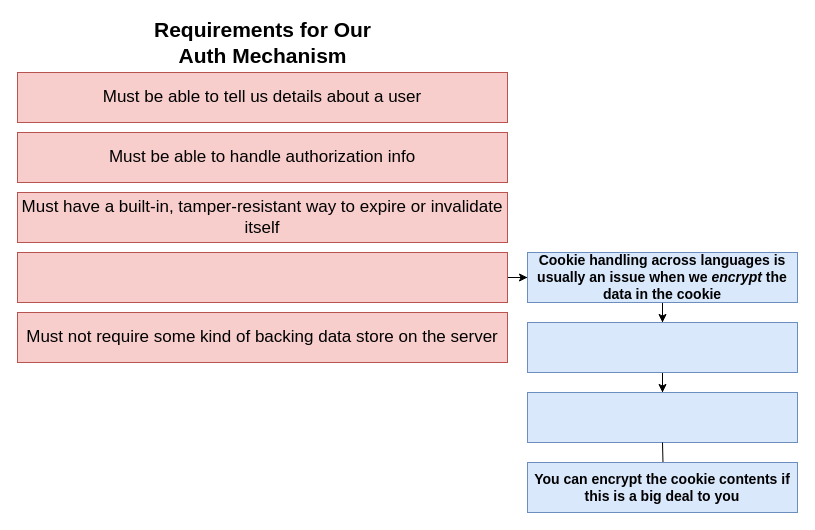
Some shapes in this 815 by 530 pixel diagram are drawn without their labels. The centre of each missing label's shape, as x and y in pixels:
"Must be easily understood between different languages" goes at (x=262, y=277).
"Remember, JWT's are tamper resistant" goes at (x=662, y=417).
"We will not encrypt the cookie contents." goes at (x=662, y=347).
